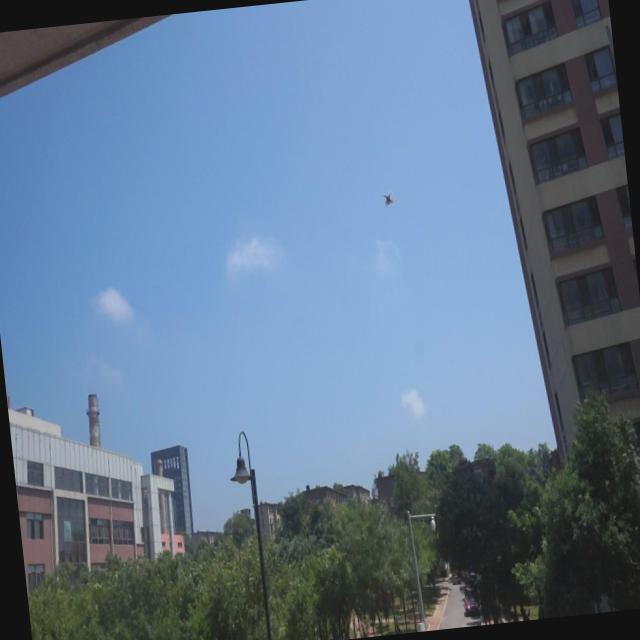drone: (379, 187, 395, 210)
